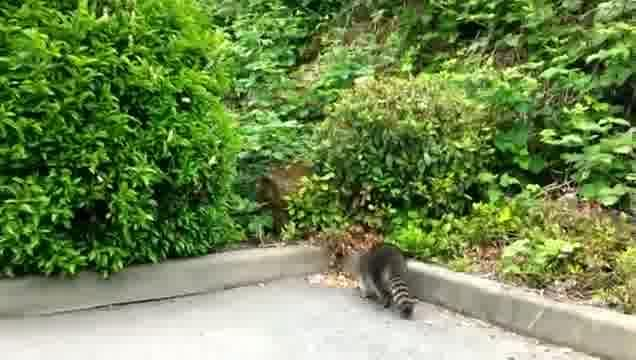raccoon: (355, 242, 415, 319)
